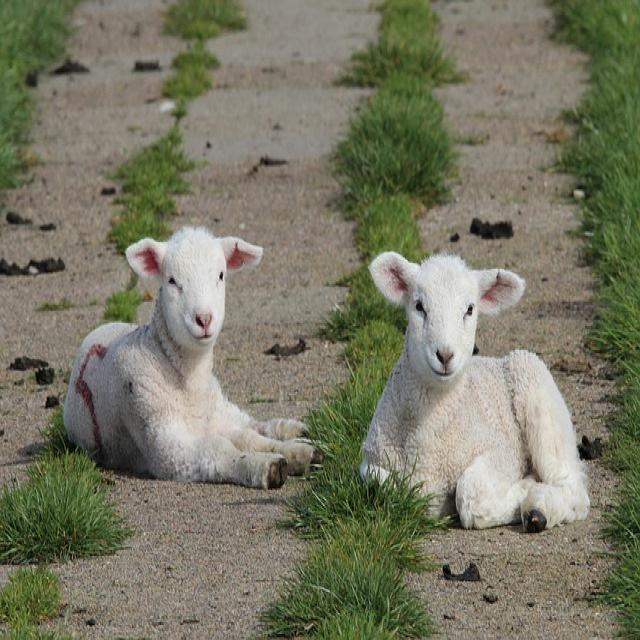sheep: (62, 224, 321, 490), (358, 249, 590, 532)
